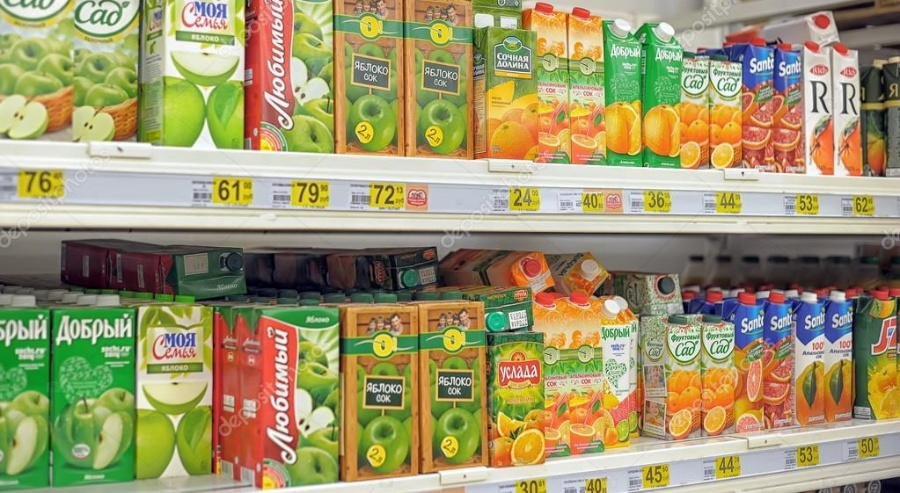juice: (45, 297, 142, 488), (250, 297, 344, 489), (329, 293, 423, 483), (134, 295, 222, 483), (408, 292, 495, 474), (478, 330, 553, 472), (469, 23, 544, 165), (634, 315, 704, 440), (635, 23, 686, 174), (600, 14, 647, 175), (848, 287, 900, 426), (724, 291, 770, 437), (823, 42, 868, 178), (692, 311, 738, 443), (795, 39, 836, 180), (702, 48, 747, 174), (790, 289, 827, 434), (763, 292, 800, 435), (670, 50, 711, 173), (819, 289, 853, 430)
